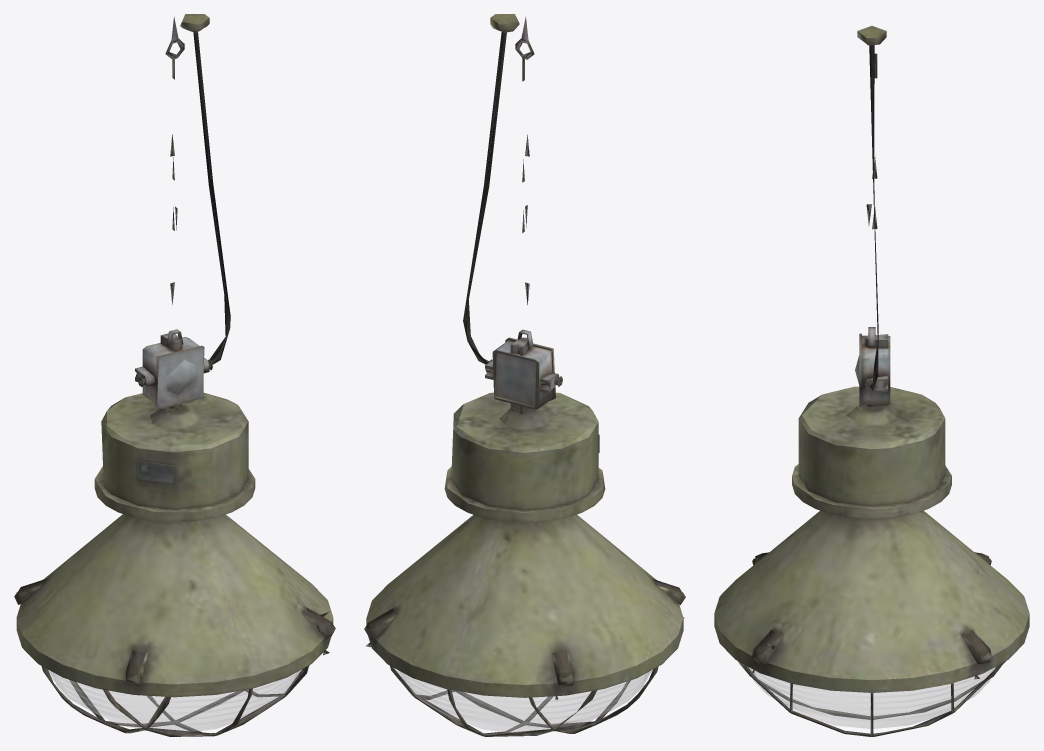
The model's file is hanging_industrial_lamp_lod1.glb.
The picture shows the model from 3 angles, left to right: view 1: azimuth 30°, elevation 25°; view 2: azimuth 150°, elevation 25°; view 3: azimuth 270°, elevation 25°; orthographic projection.
Parts seen in each view (by area): view 1: hanging_industrial_lamp; view 2: hanging_industrial_lamp; view 3: hanging_industrial_lamp.
Boxes of the visible parts, x1,y1,x2,y2 form: hanging_industrial_lamp: (14,14,335,736); hanging_industrial_lamp: (364,14,685,736); hanging_industrial_lamp: (714,26,1029,736).
Size of the model in its own units: 0.5497 by 1.36 by 0.5497.
Materials: 2 (1 with a texture image).
